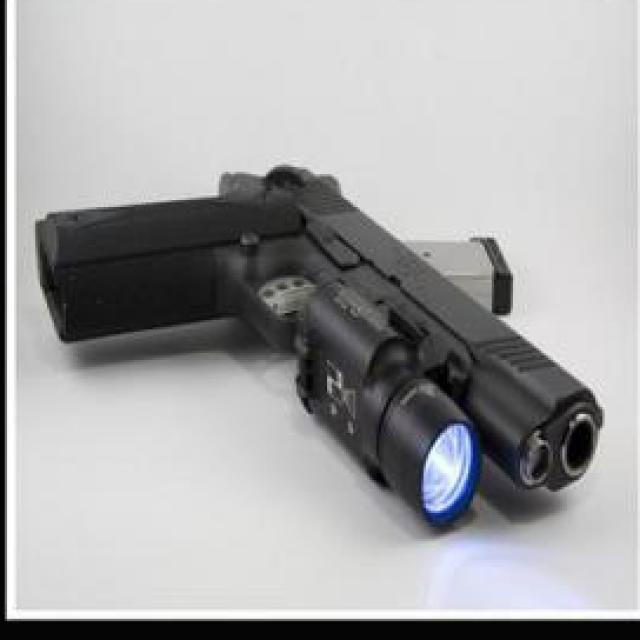pistol: (32, 162, 607, 534)
